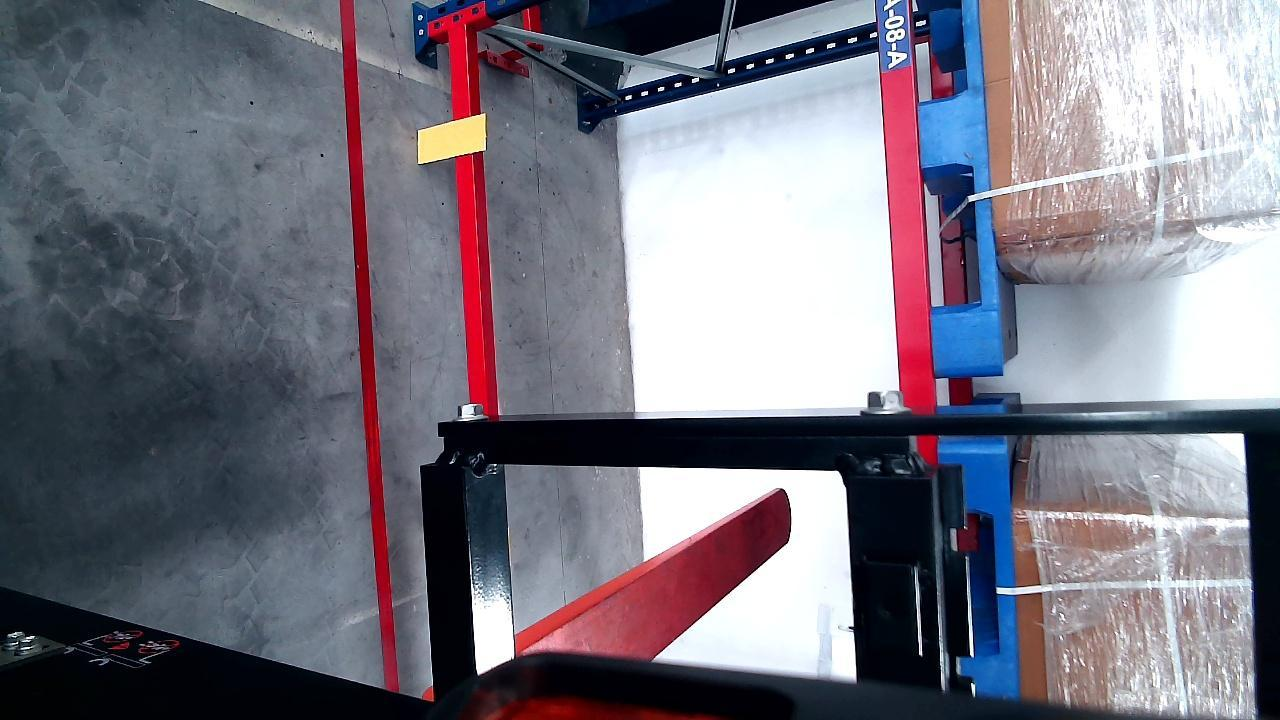red_line: (341, 0, 401, 687)
